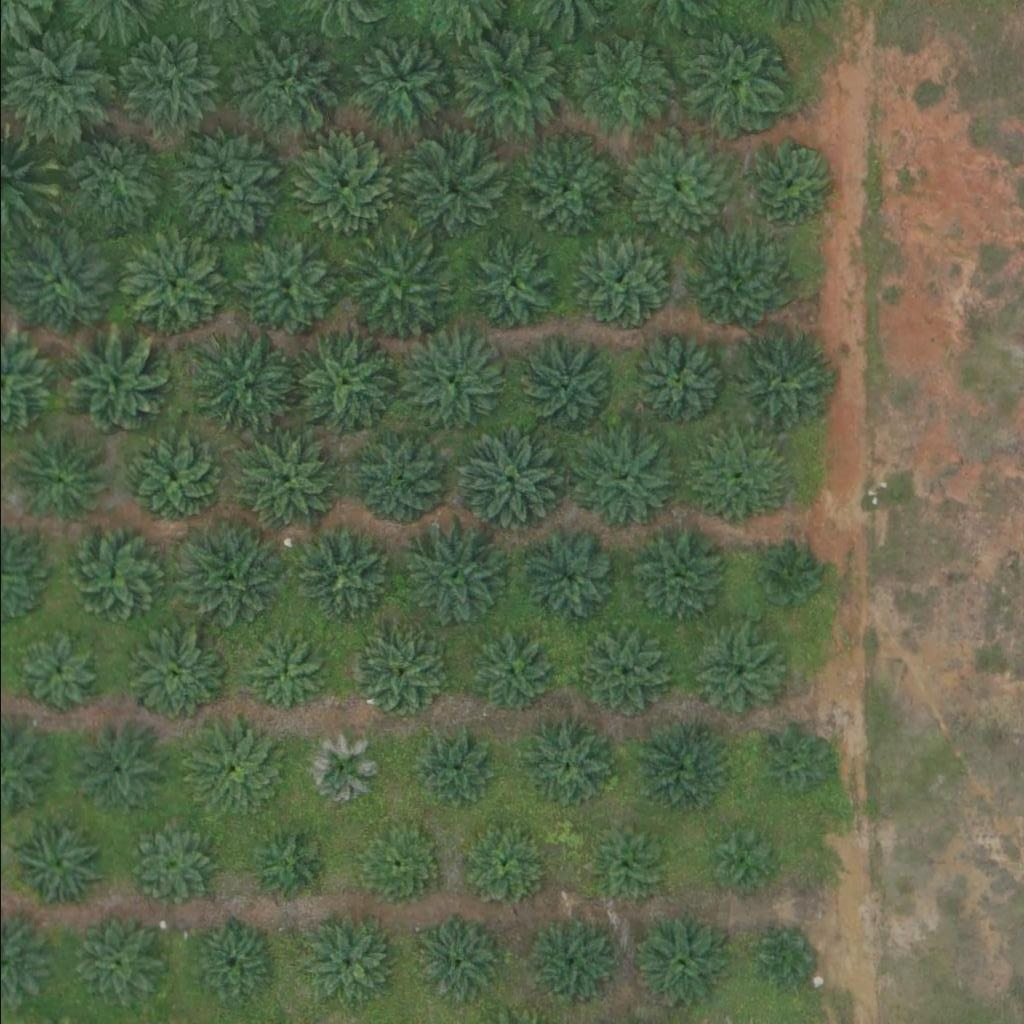Kelapa_Sawit: (618, 132, 732, 245), (506, 136, 620, 249), (342, 233, 456, 346), (285, 325, 399, 438), (186, 333, 300, 446), (112, 31, 225, 144), (396, 520, 509, 633), (55, 327, 168, 440), (392, 323, 506, 435), (170, 520, 284, 632), (449, 34, 562, 146), (341, 32, 454, 144), (392, 136, 505, 248), (168, 135, 281, 247), (722, 327, 835, 439), (452, 427, 565, 539), (52, 126, 165, 238), (229, 40, 330, 140), (293, 138, 394, 238), (679, 235, 780, 335), (236, 240, 337, 340), (620, 336, 721, 436), (514, 338, 615, 438), (682, 429, 783, 529), (576, 431, 677, 531), (624, 525, 725, 625), (516, 528, 617, 628), (292, 526, 393, 626), (686, 622, 787, 722), (183, 724, 284, 824), (118, 812, 219, 912), (8, 812, 109, 912), (68, 718, 169, 818), (8, 429, 109, 529), (121, 233, 222, 333), (9, 230, 110, 330), (680, 31, 780, 131), (570, 44, 670, 144), (571, 235, 671, 335), (460, 238, 560, 338), (349, 430, 449, 530), (232, 432, 332, 532), (629, 914, 729, 1014), (125, 626, 225, 726), (63, 525, 163, 625), (122, 429, 222, 529), (574, 630, 663, 718), (350, 820, 439, 908), (183, 922, 272, 1010), (244, 821, 332, 909), (632, 724, 720, 812), (519, 721, 607, 809), (453, 823, 541, 911), (70, 917, 158, 1005), (8, 629, 96, 717), (744, 139, 832, 226), (461, 627, 549, 714), (351, 630, 439, 717), (524, 919, 612, 1006), (408, 918, 496, 1005), (298, 919, 386, 1006), (246, 636, 322, 711), (582, 826, 657, 901), (414, 730, 489, 805), (300, 732, 375, 807), (761, 731, 824, 794), (714, 828, 777, 891), (759, 548, 822, 611), (754, 924, 816, 986)
